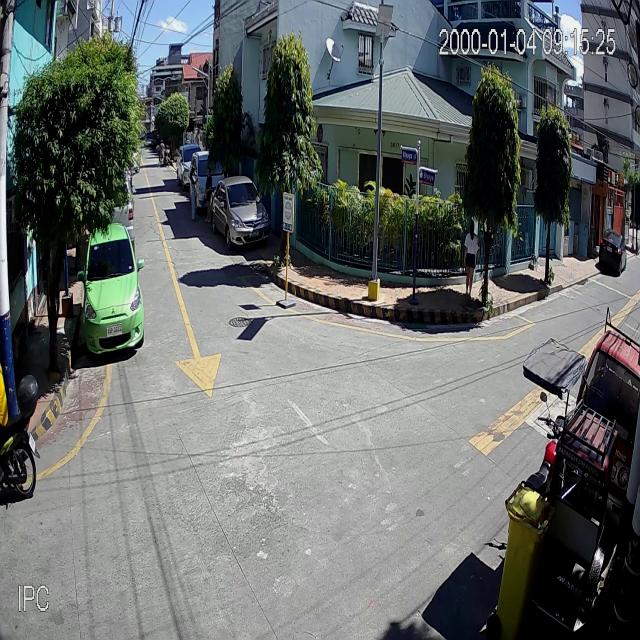standing: (188, 166, 201, 221), (202, 166, 213, 223)
walking: (462, 220, 480, 300), (159, 139, 166, 165)
